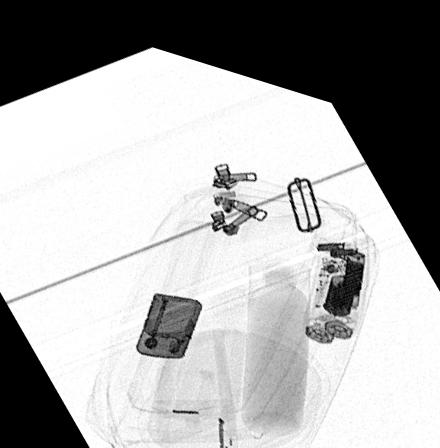Lighter: (134, 281, 201, 348)
